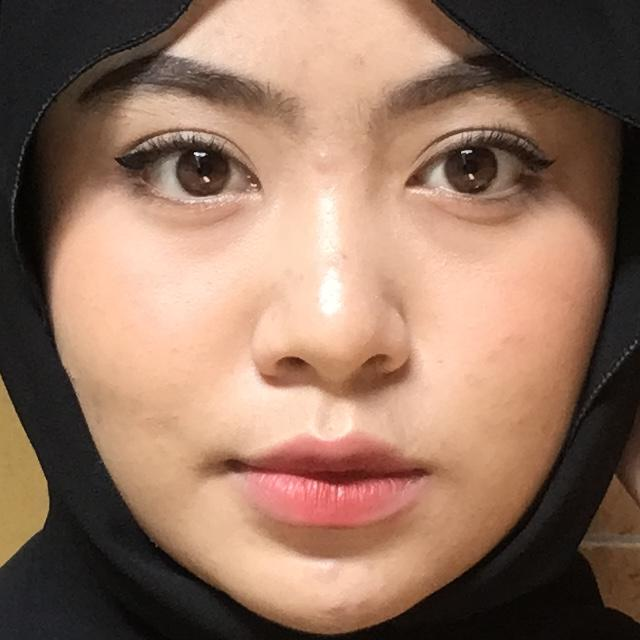ibu: (480, 186, 640, 640)
